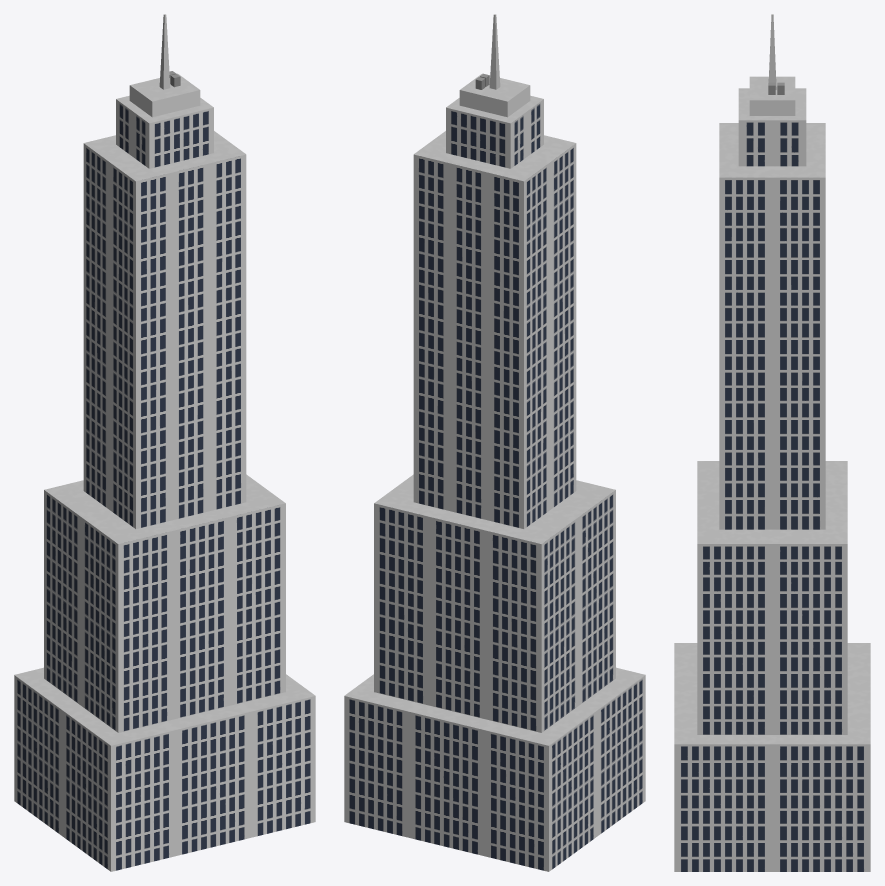
File: Building_H3_W3_001.fbx
3 renders of one model, left to right at view 1: azimuth 30°, elevation 25°; view 2: azimuth 150°, elevation 25°; view 3: azimuth 270°, elevation 25°, orthographic.
Visible parts, largest first — view 1: Building_H3_W3_001; view 2: Building_H3_W3_001; view 3: Building_H3_W3_001.
Boxes of the visible parts, box(x1,y1,x2,y2) form: Building_H3_W3_001: box(14, 14, 315, 871); Building_H3_W3_001: box(344, 14, 645, 871); Building_H3_W3_001: box(674, 14, 870, 871).
Bounding box in the file's own units: 59.81 × 222 × 49.04.
